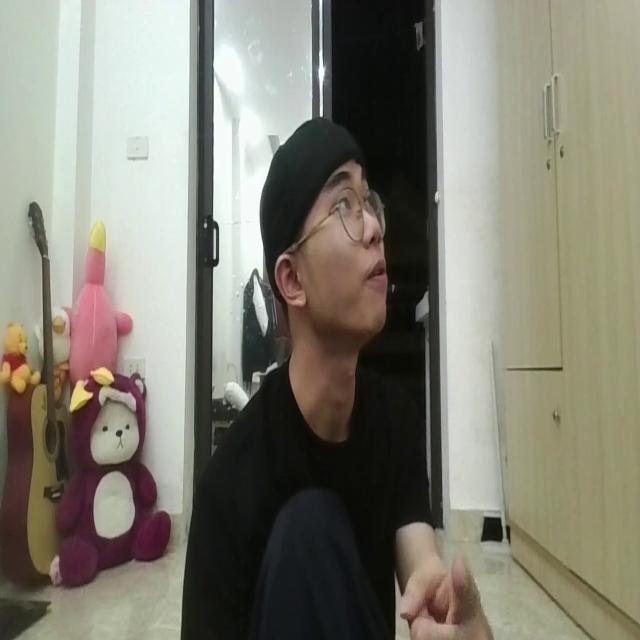student: (183, 115, 469, 640)
